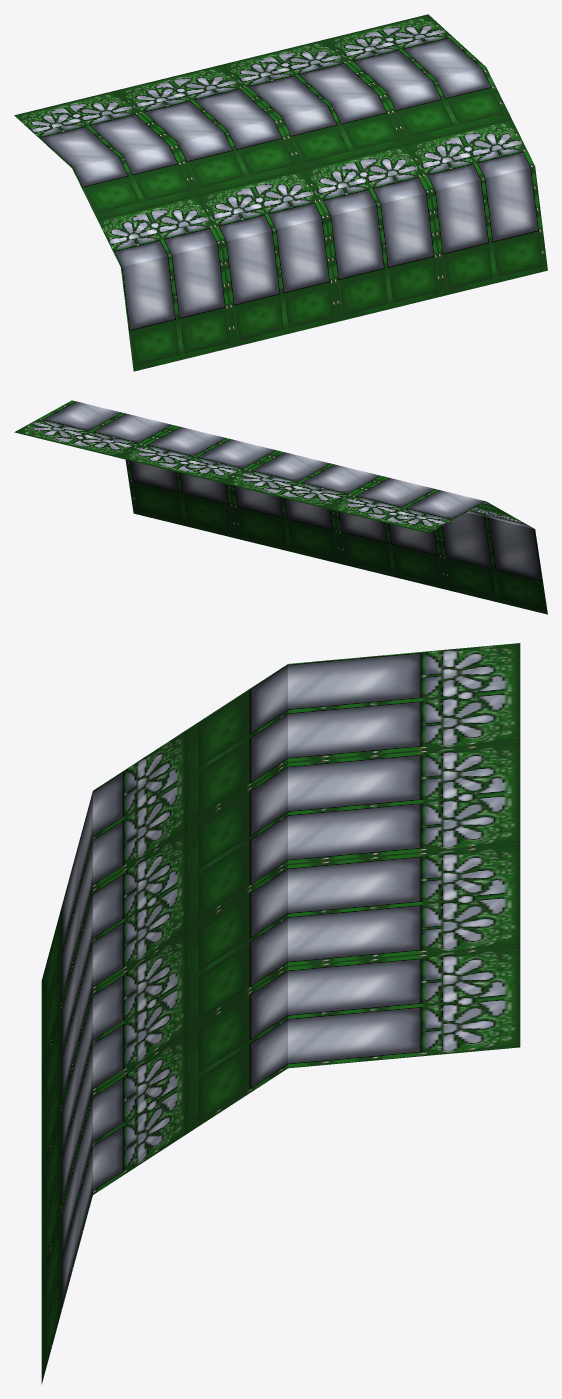
The model's file is Dach_HalbtonneBreit [GrünesGlas]_262.glb.
3 views of the same model, one above another, from view 1: azimuth 30°, elevation 25°; view 2: azimuth 150°, elevation 25°; view 3: azimuth 270°, elevation 25° (orthographic). The views are drawn at different scales.
Visible parts, largest first — view 1: polySurfaceShape1072; view 2: polySurfaceShape1072; view 3: polySurfaceShape1072.
Boxes of the visible parts, bbox=[...] form: polySurfaceShape1072: bbox=[14, 14, 547, 371]; polySurfaceShape1072: bbox=[14, 400, 547, 614]; polySurfaceShape1072: bbox=[41, 643, 520, 1384].
Bounding box in the file's own units: 1 × 0.3891 × 0.5.
1 material, 1 textured.
